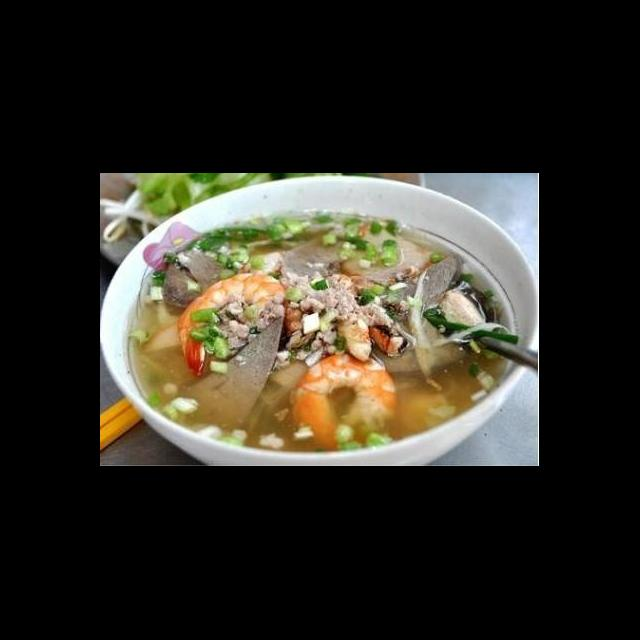gan: (352, 194, 469, 326), (172, 310, 274, 388)
thit bam: (290, 266, 370, 344), (352, 278, 434, 346)
tom: (350, 252, 464, 372), (236, 178, 354, 292)
